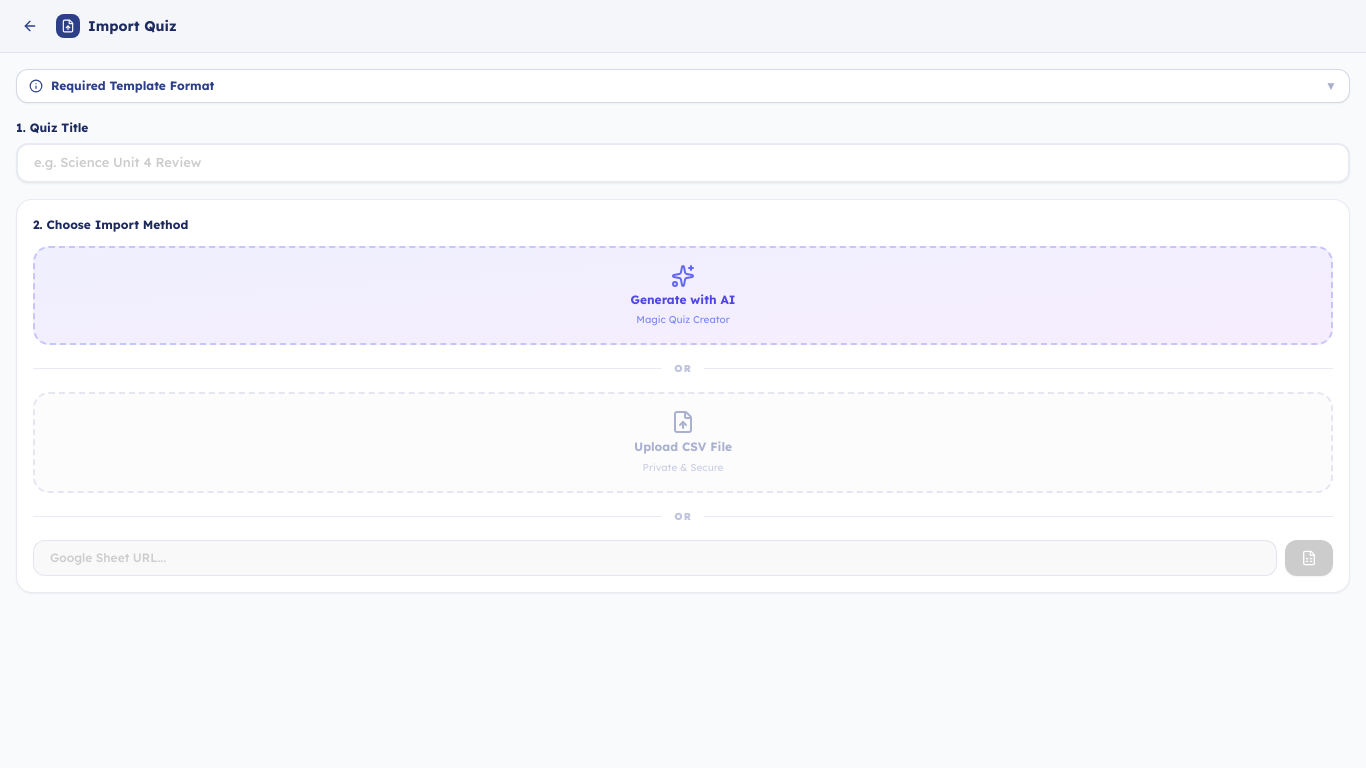
QuizImporter › opens and closes the AI generation overlay
Note: Click "Generate with AI"
Step 1. Click the text "Generate with AI" → (683, 300), box 631,292 -> 735,308
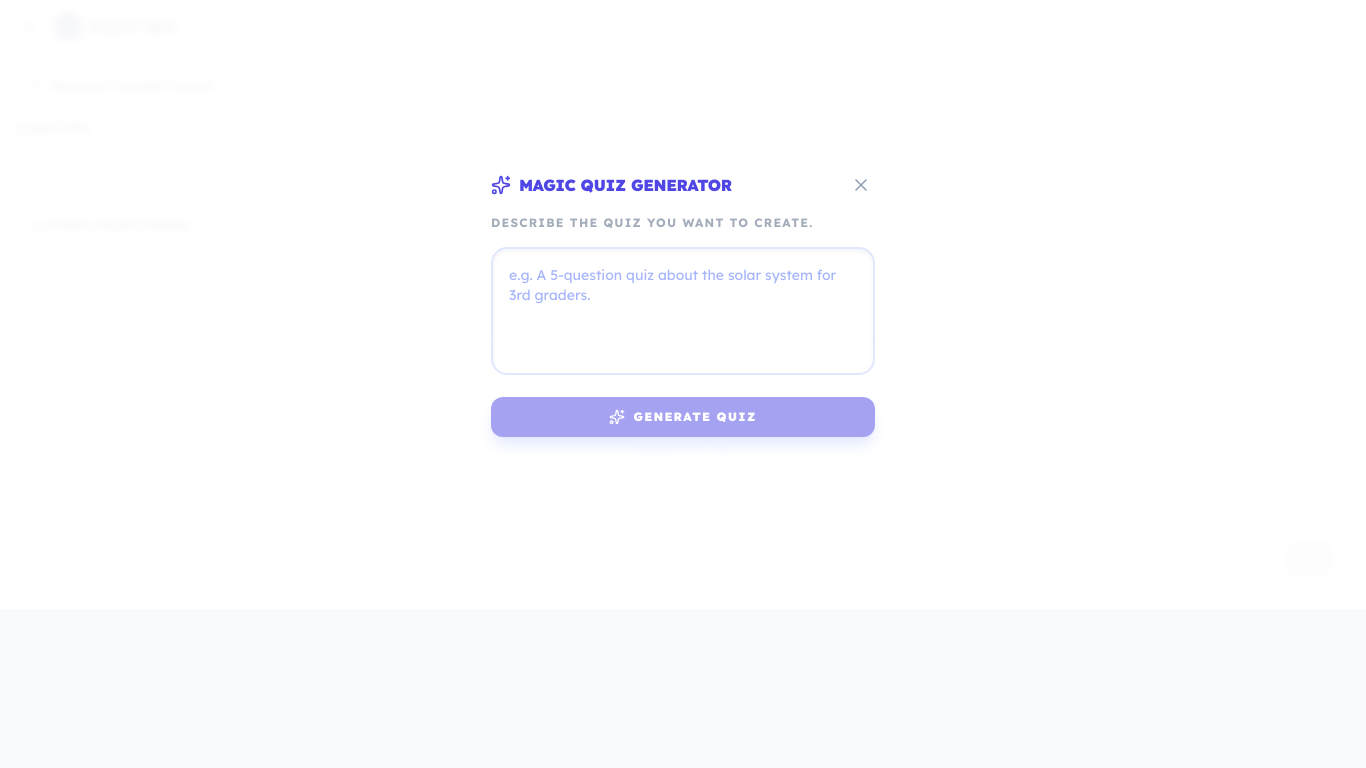
Now the text "Describe the quiz you want to create." is shown, box 491,215 -> 814,230
Note: Click Close button (X icon)
Step 2. Click the button named "Close Magic Generator" → (861, 185), box 847,171 -> 875,199
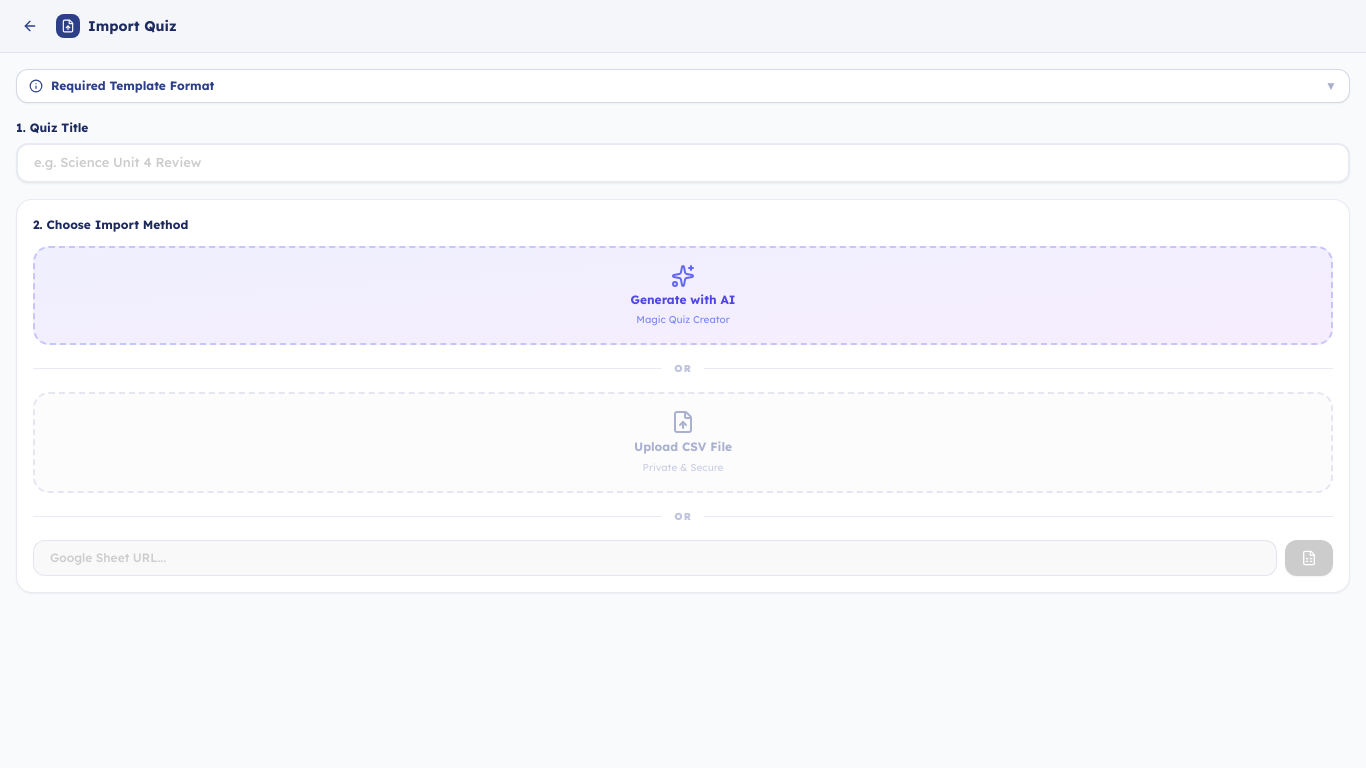
Now the text "Describe the quiz you want to create." is gone
